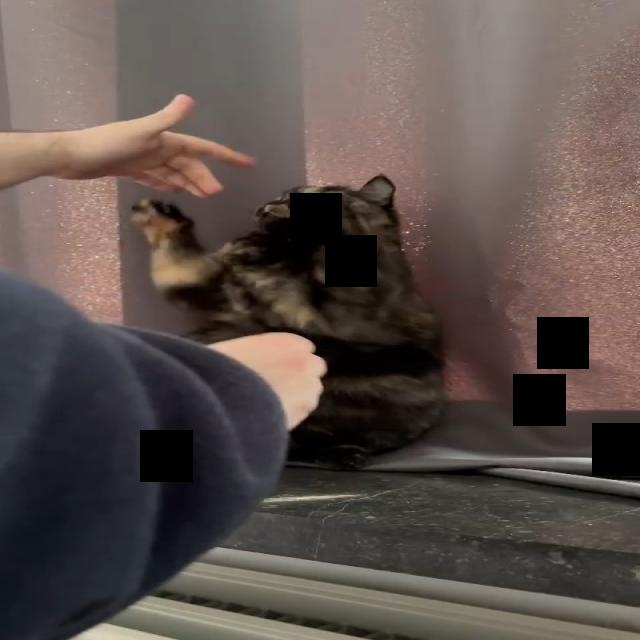authorized: (127, 173, 448, 470)
